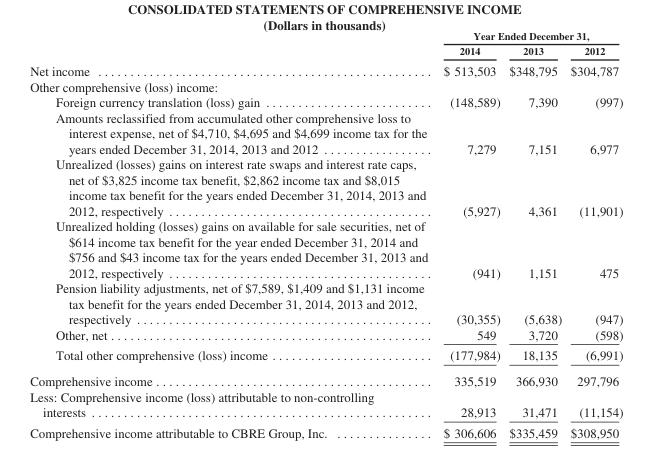table: (29, 29, 622, 439)
table column: (29, 29, 435, 439), (435, 29, 504, 439), (504, 29, 565, 439), (565, 29, 622, 439)
table column header: (29, 29, 622, 60)
table projected row header: (29, 78, 622, 94)
table row: (29, 156, 622, 218), (29, 218, 622, 280), (29, 109, 622, 156), (29, 280, 622, 326), (29, 388, 622, 422), (29, 344, 622, 367), (29, 367, 622, 388), (29, 60, 622, 78), (29, 326, 622, 344), (29, 43, 622, 60), (29, 422, 622, 439), (29, 78, 622, 94), (29, 94, 622, 109), (29, 29, 622, 43)
table spanning cell: (435, 29, 622, 43)
